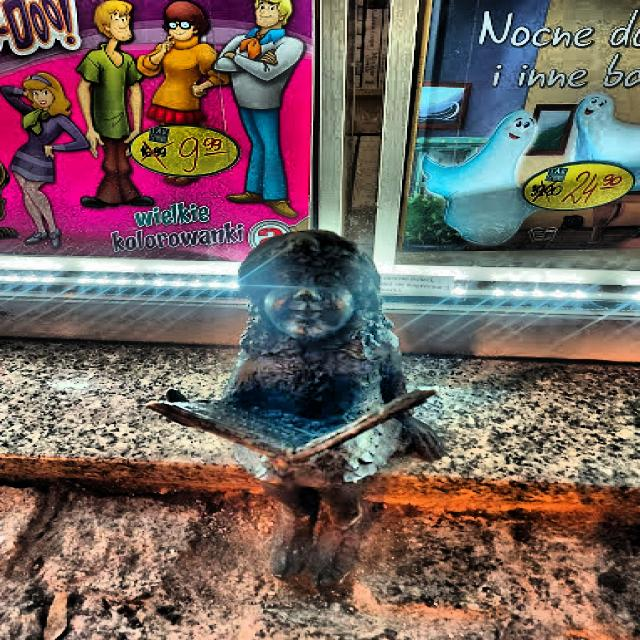Ksiegarka: (139, 225, 463, 598)
